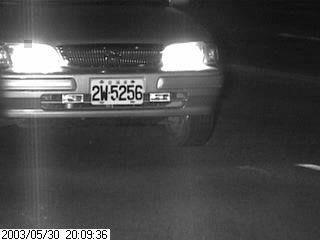plate: (89, 76, 144, 108)
